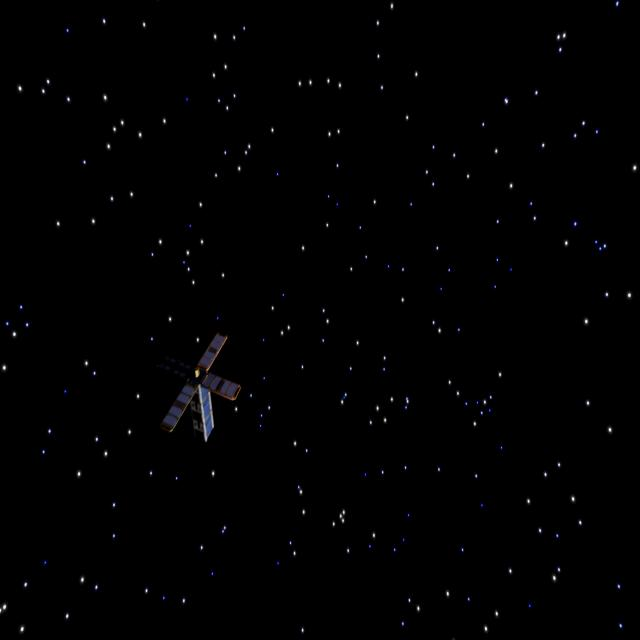medium_debris: (159, 326, 252, 456)
